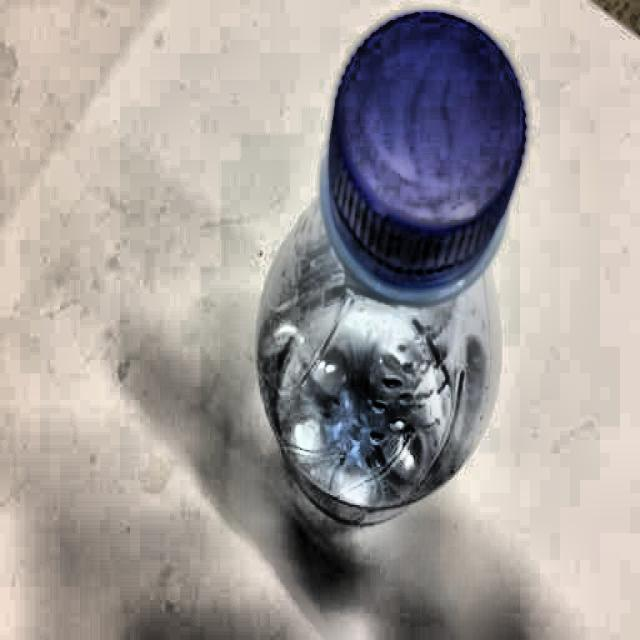plastic: (256, 12, 530, 550)
